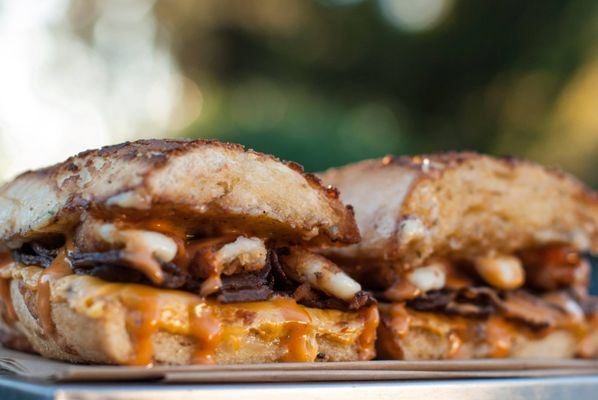soup: (0, 139, 376, 370), (287, 150, 598, 361)
